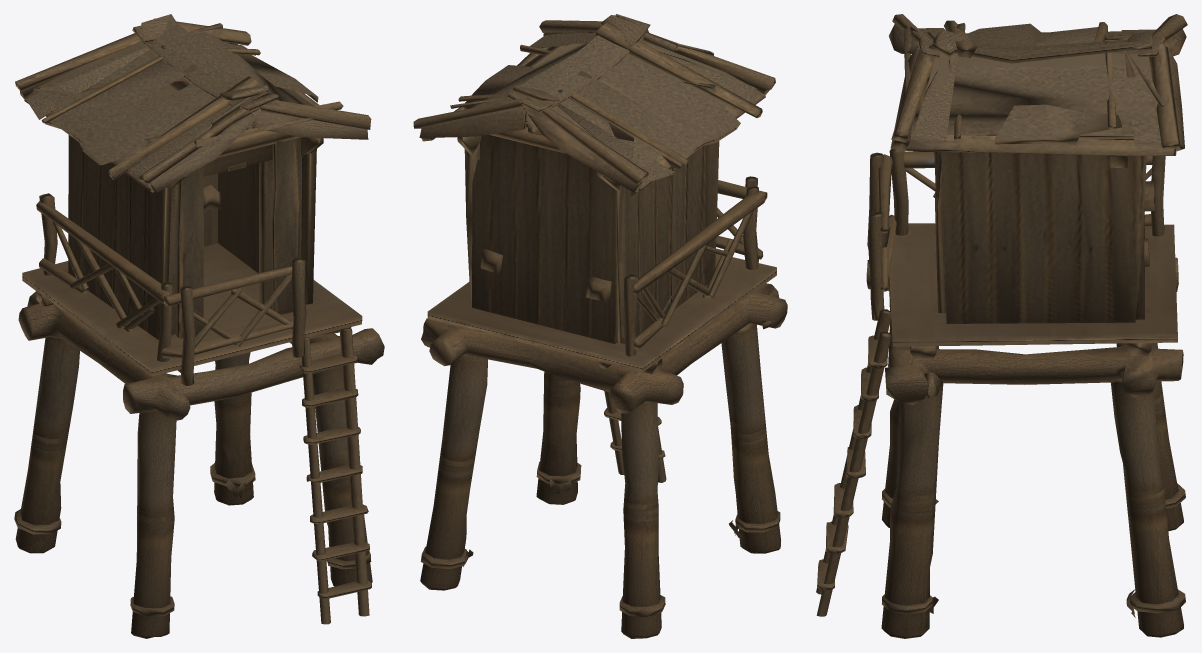
File: gozetleme_kulesi.glb
The picture shows the model from 3 angles, left to right: view 1: azimuth 30°, elevation 25°; view 2: azimuth 150°, elevation 25°; view 3: azimuth 270°, elevation 25°; orthographic projection. The views are drawn at different scales.
Bounding box in the file's own units: 0.4849 × 0.9512 × 0.5801.
Materials: 1 (1 with a texture image).
